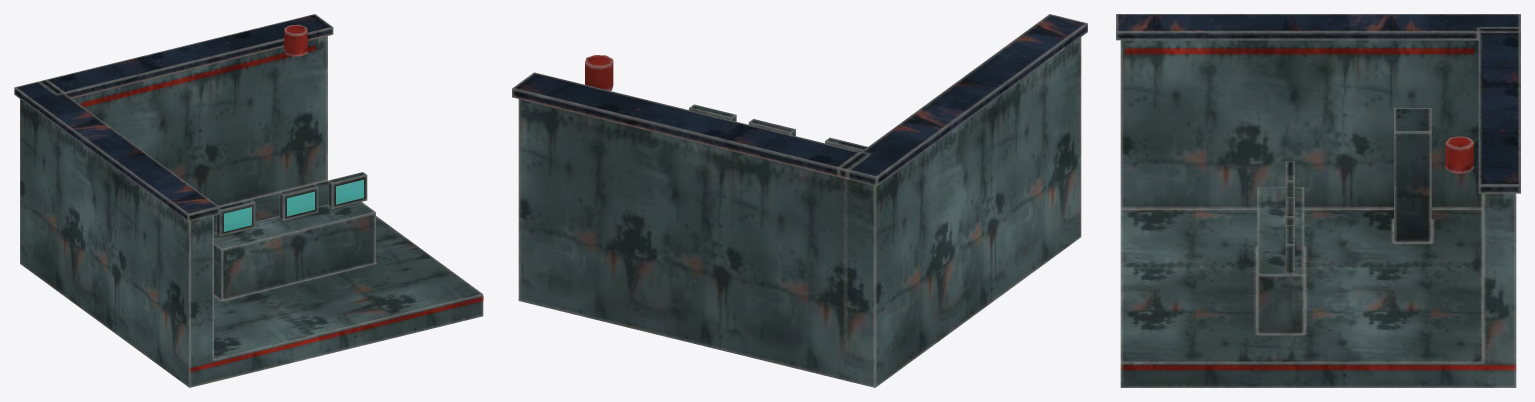
Rendered from guard_post.glb.
The picture shows the model from 3 angles, left to right: view 1: azimuth 30°, elevation 25°; view 2: azimuth 150°, elevation 25°; view 3: azimuth 270°, elevation 25°; orthographic projection. The views are drawn at different scales.
Parts seen in each view (by area): view 1: te_guard_post; view 2: te_guard_post; view 3: te_guard_post.
Part boxes in pixels (<box>): te_guard_post: <box>14,14,483,387</box>; te_guard_post: <box>512,14,1087,387</box>; te_guard_post: <box>1116,14,1520,387</box>.
Size of the model in its own units: 0.86 by 0.52 by 0.86.
Materials: 1 (1 with a texture image).
